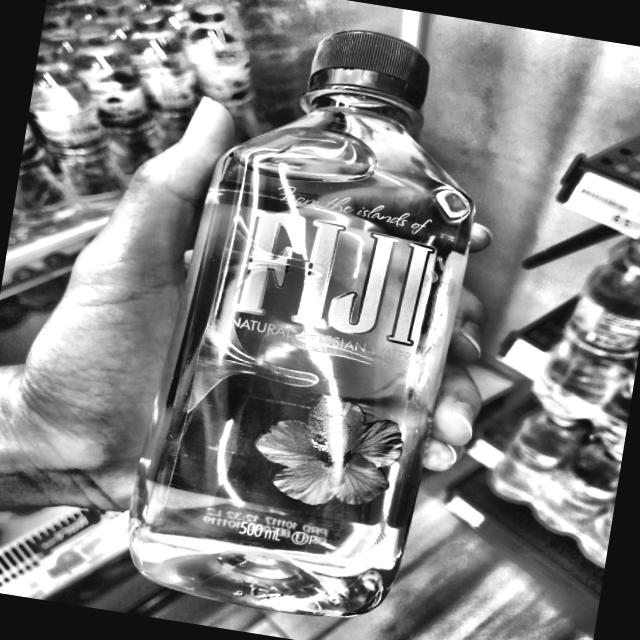waterbottle: (108, 0, 514, 640)
